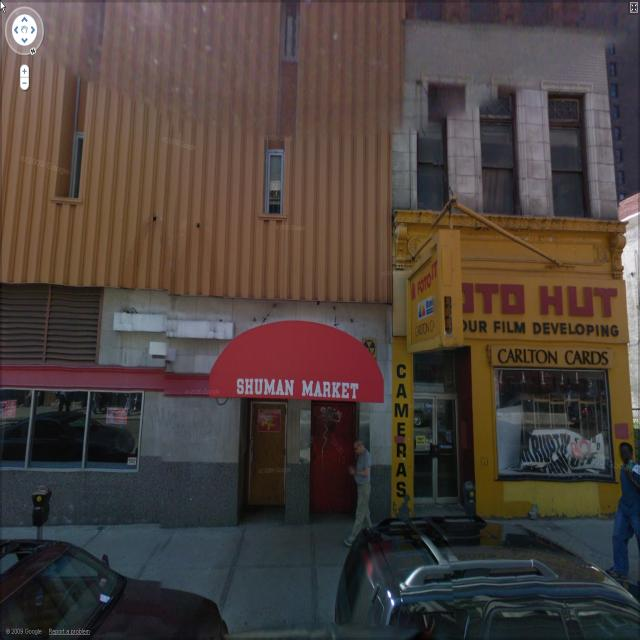b_1: (1, 11, 407, 521), (383, 25, 640, 498)
